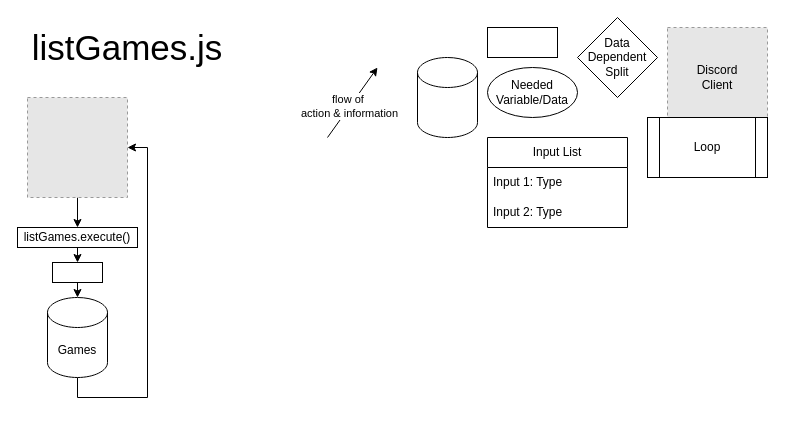
Some shapes in this 785 by 423 pixel diagram are drawn without their labels. Grey dashed boxes stand in for pictures. Here are the shapes that lost their labels. From the top down, the centre of each, then its label:
At point 522,42: "Function()".
At point 447,97: "Database Object".
At point 77,272: "findAll()".
